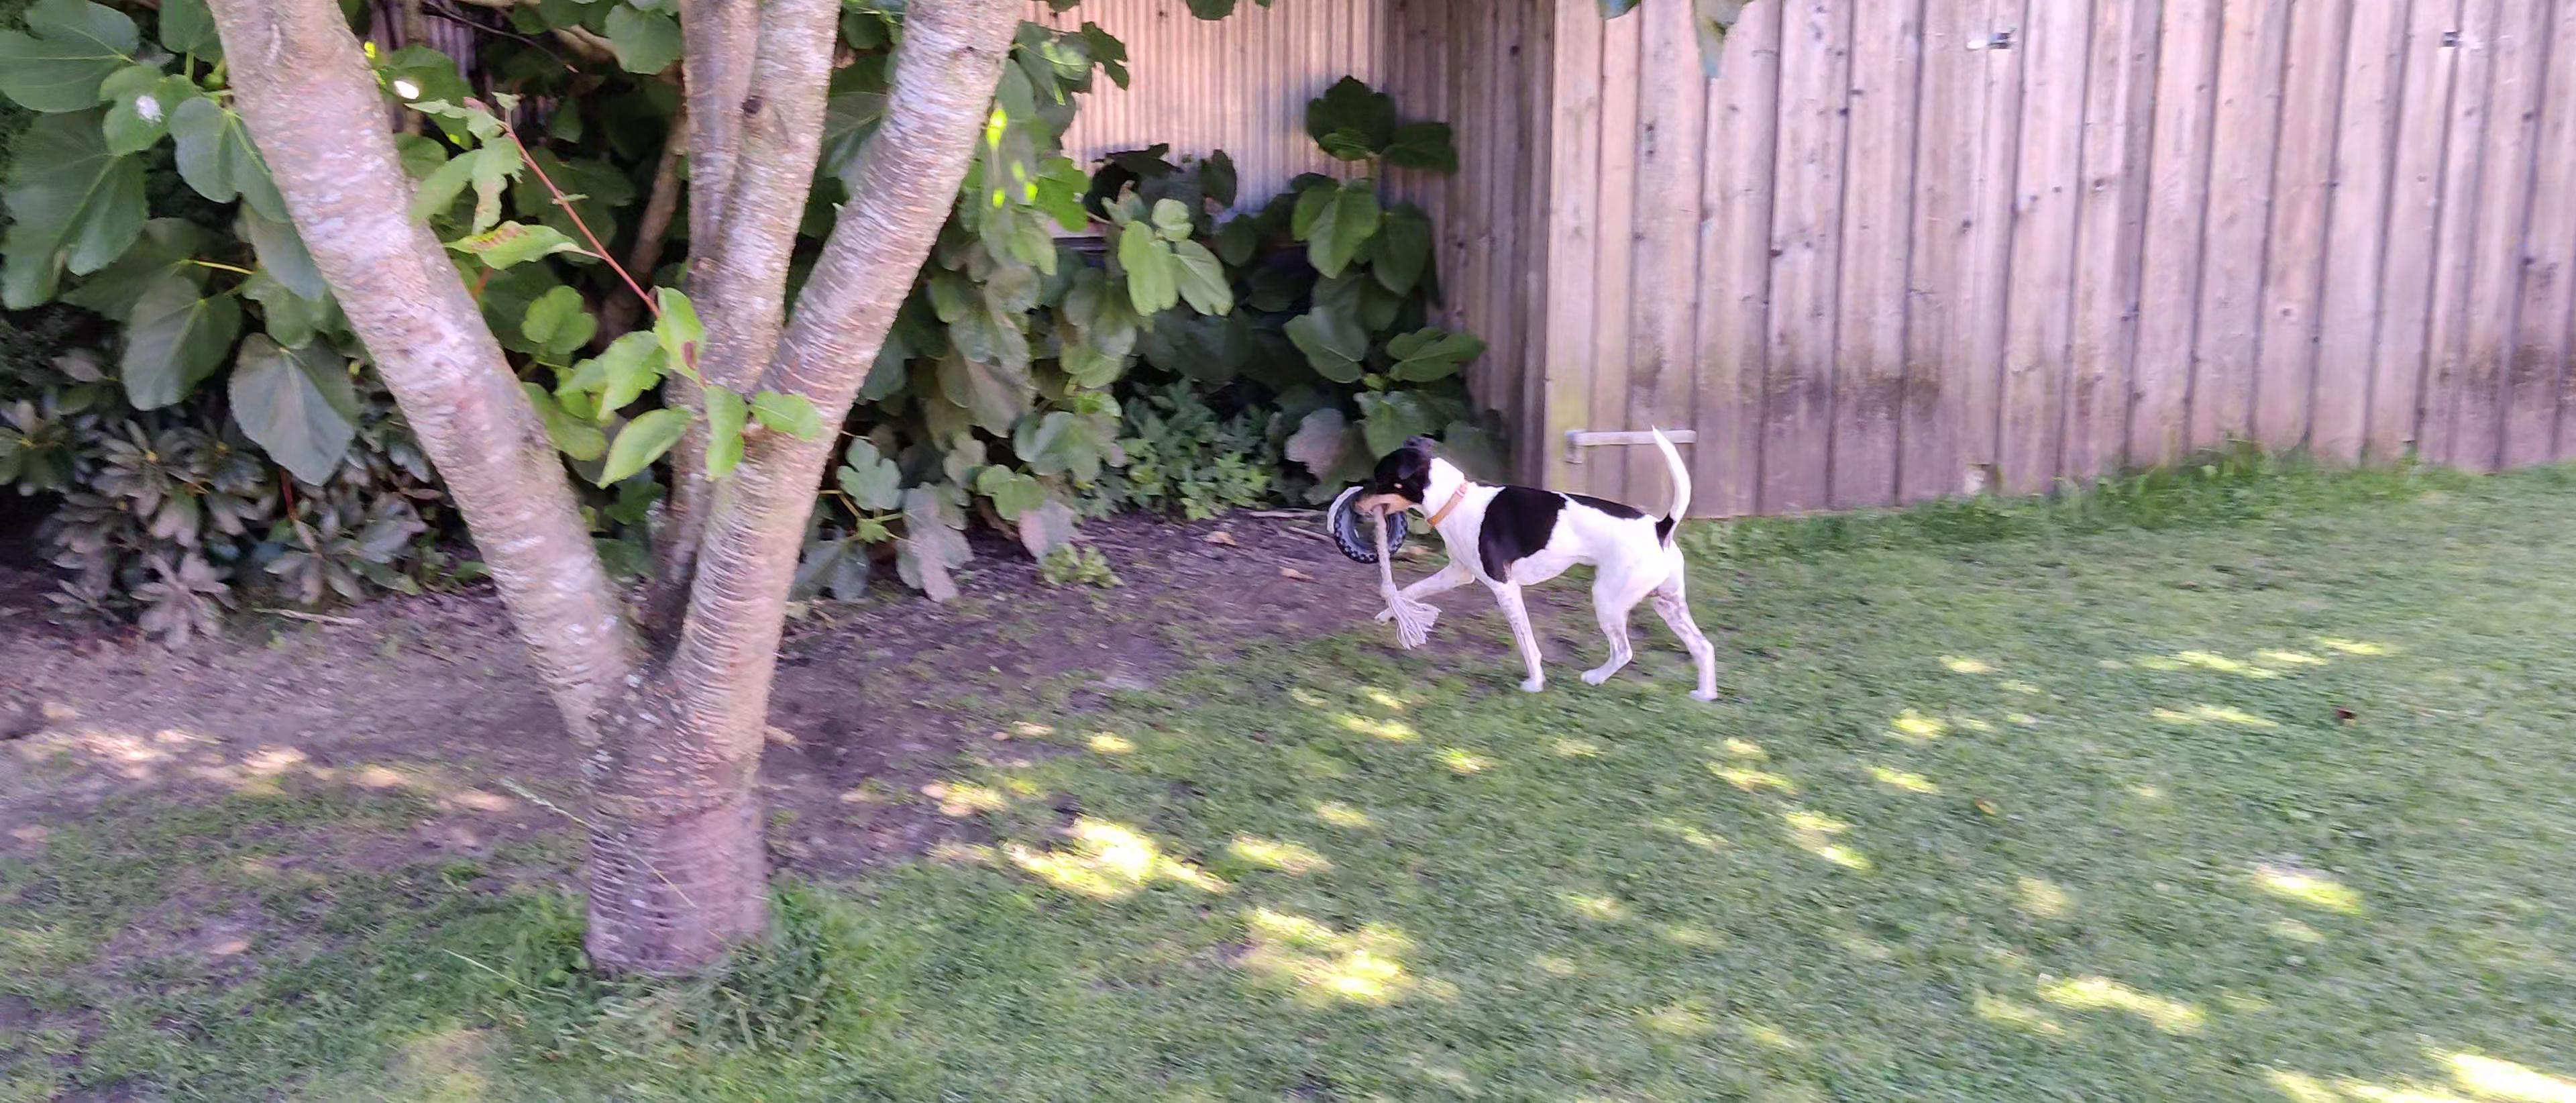Dog: (1344, 418, 1727, 708)
